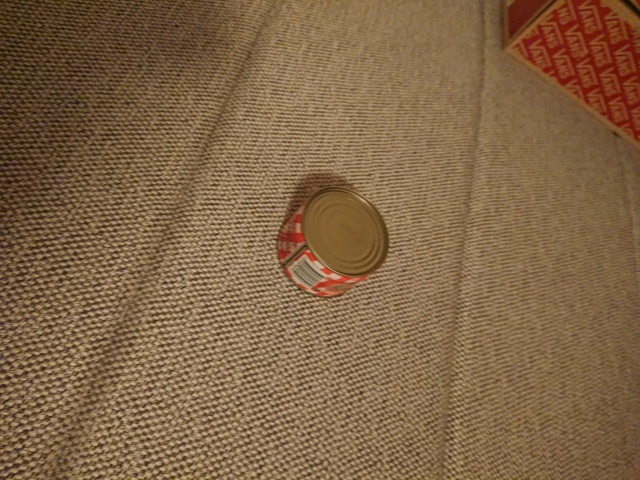Podravka Luncheon Meat 150g: (274, 183, 392, 301)
